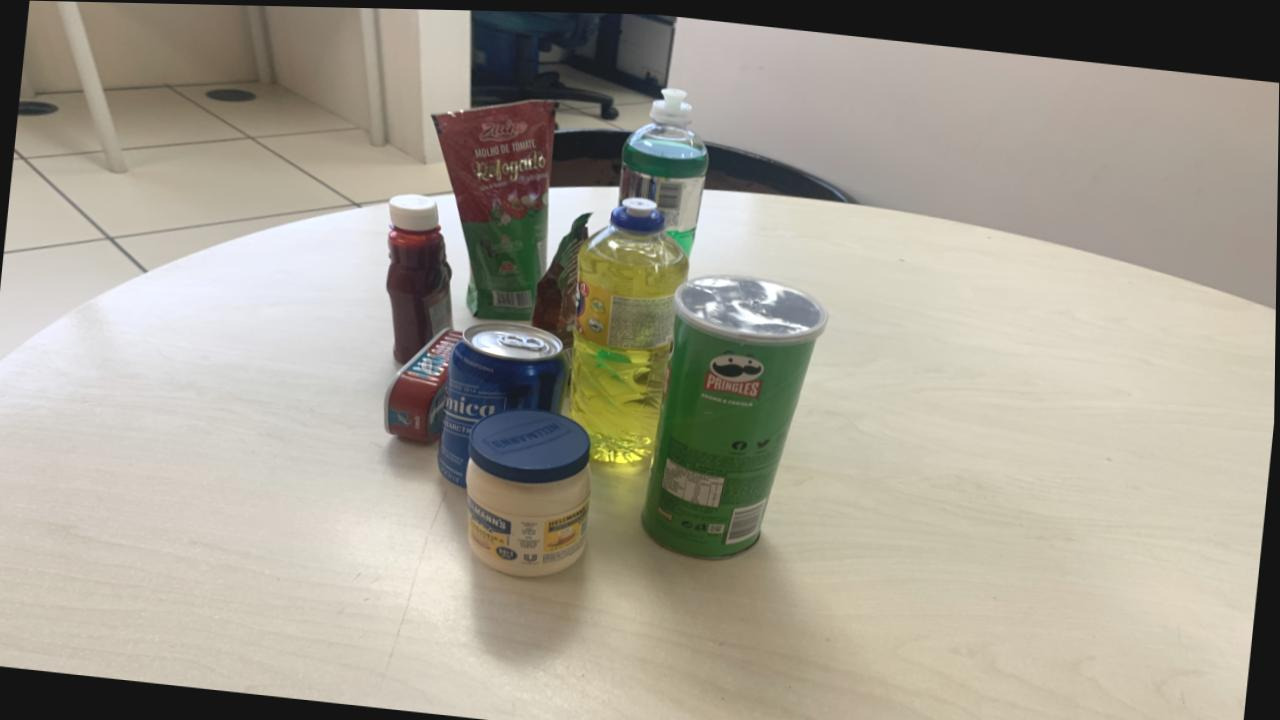Coffee-Pantry_Items: (533, 210, 591, 345)
Detergent-Cleanup_Items: (570, 194, 690, 460), (619, 85, 708, 251), (491, 160, 493, 164)
Ketchup-Pantry_Items: (386, 191, 453, 362)
Mayonnaise-Pantry_Items: (467, 406, 592, 575)
Pringles-Snacks: (642, 272, 828, 556), (524, 480, 527, 482)
Tomato_Sauce-Pantry_Items: (432, 97, 556, 320)
Tonic-Drinks: (438, 319, 571, 485)
Tuna_Can-Pantry_Items: (384, 327, 464, 442)
